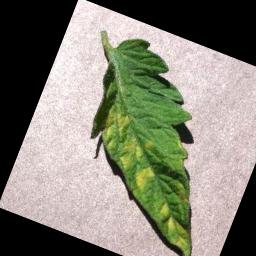Leaf_Mold: (67, 102, 238, 256)
